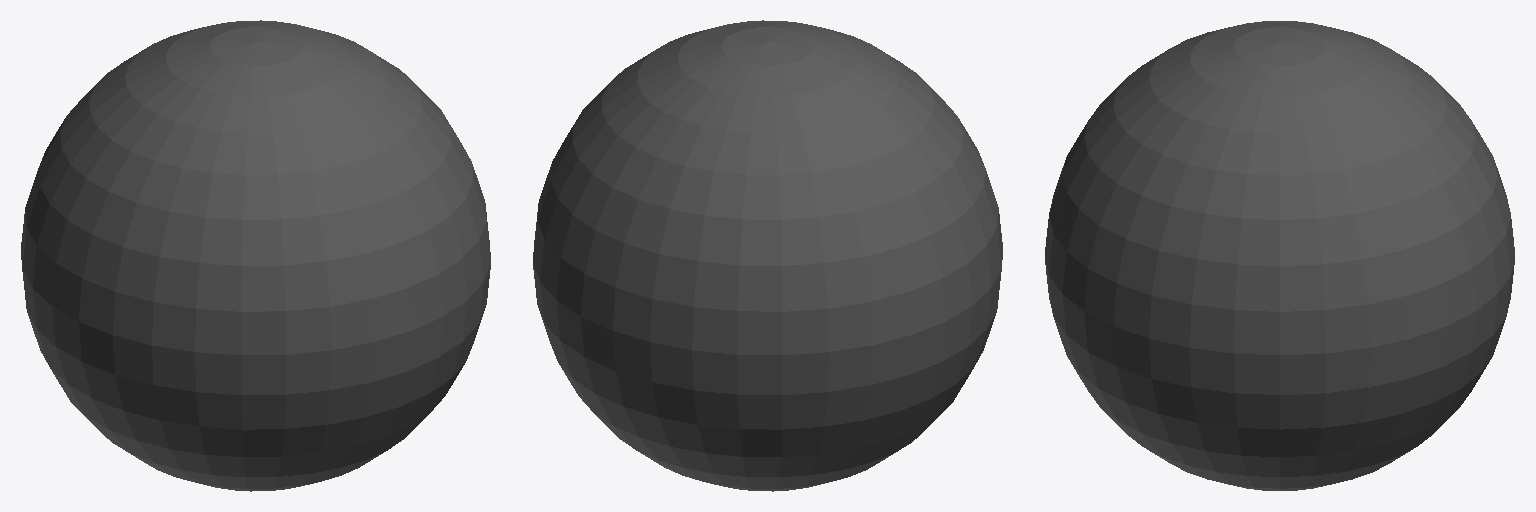
robot.urdf — tsphere:
<?xml version="1.0" encoding="utf-8"?>
<robot name="tsphere" xmlns:xacro="http://www.ros.org/wiki/xacro">
<material name="grey">
<color rgba="0.4 0.4 0.4 1.0"/>
</material>
<link name="body">
<visual>
<origin rpy="0 0 0" xyz="0 0 0"/>
<geometry>
<sphere radius="0.225"/>
</geometry>
<material name="grey"/>
</visual>
</link>
<link name="collider">
<inertial>
<mass value="10000."/>
<origin rpy="0 0 0" xyz="0 0 0"/>
<inertia ixx="189.583334" ixy="0.0" ixz="0.0" iyy="189.583334" iyz="0.0" izz="253.125"/>
</inertial>
<collision>
<origin rpy="0 0 0" xyz="0 0 0"/>
<geometry>
<cylinder radius="0.225" length="0.275"/>
</geometry>
</collision>
</link>
<joint name="collider_body_relation" type="fixed">
<parent link="body"/>
<child link="collider"/>
<origin xyz="0.0 0.0 -0.1375"/>
</joint>
</robot>

--- Render facts (derived) ---
3 views of the same robot in one strip: view 1: azimuth 30°, elevation 25°; view 2: azimuth 150°, elevation 25°; view 3: azimuth 270°, elevation 25° (orthographic).
Robot: tsphere — 2 links, 1 joints (1 fixed); root link body; default pose: all joints at 0.
Links seen in each view (by area): view 1: body; view 2: body; view 3: body.
Boxes of the visible links, x1,y1,x2,y2 form: body: [21, 20, 490, 491]; body: [533, 20, 1002, 491]; body: [1045, 21, 1514, 490].
Bounding box of the posed robot: 0.45 × 0.45 × 0.45 m (x, y, z).
Geometry: primitives only (box / cylinder / sphere), no mesh files.
